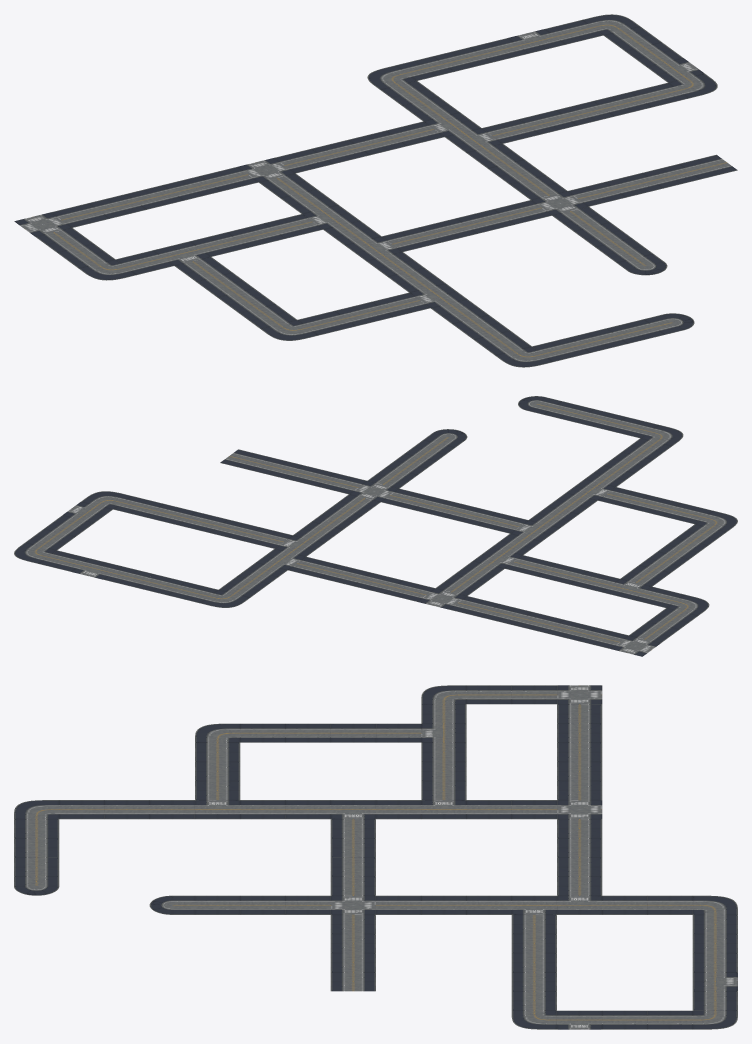
The model's file is m_idle_bg_road_a_04.fbx.
3 renders of one model, top to bottom at view 1: azimuth 30°, elevation 25°; view 2: azimuth 150°, elevation 25°; view 3: azimuth 270°, elevation 25°, orthographic. The views are drawn at different scales.
Parts seen in each view (by area): view 1: m_idle_bg_road_a_04; view 2: m_idle_bg_road_a_04; view 3: m_idle_bg_road_a_04.
Part boxes in pixels (left/top/right/bottom): m_idle_bg_road_a_04: left=14, top=14, right=737, bottom=367; m_idle_bg_road_a_04: left=14, top=396, right=737, bottom=656; m_idle_bg_road_a_04: left=14, top=685, right=737, bottom=1029.
Bounding box in the file's own units: 450 × 0.000432 × 400.
